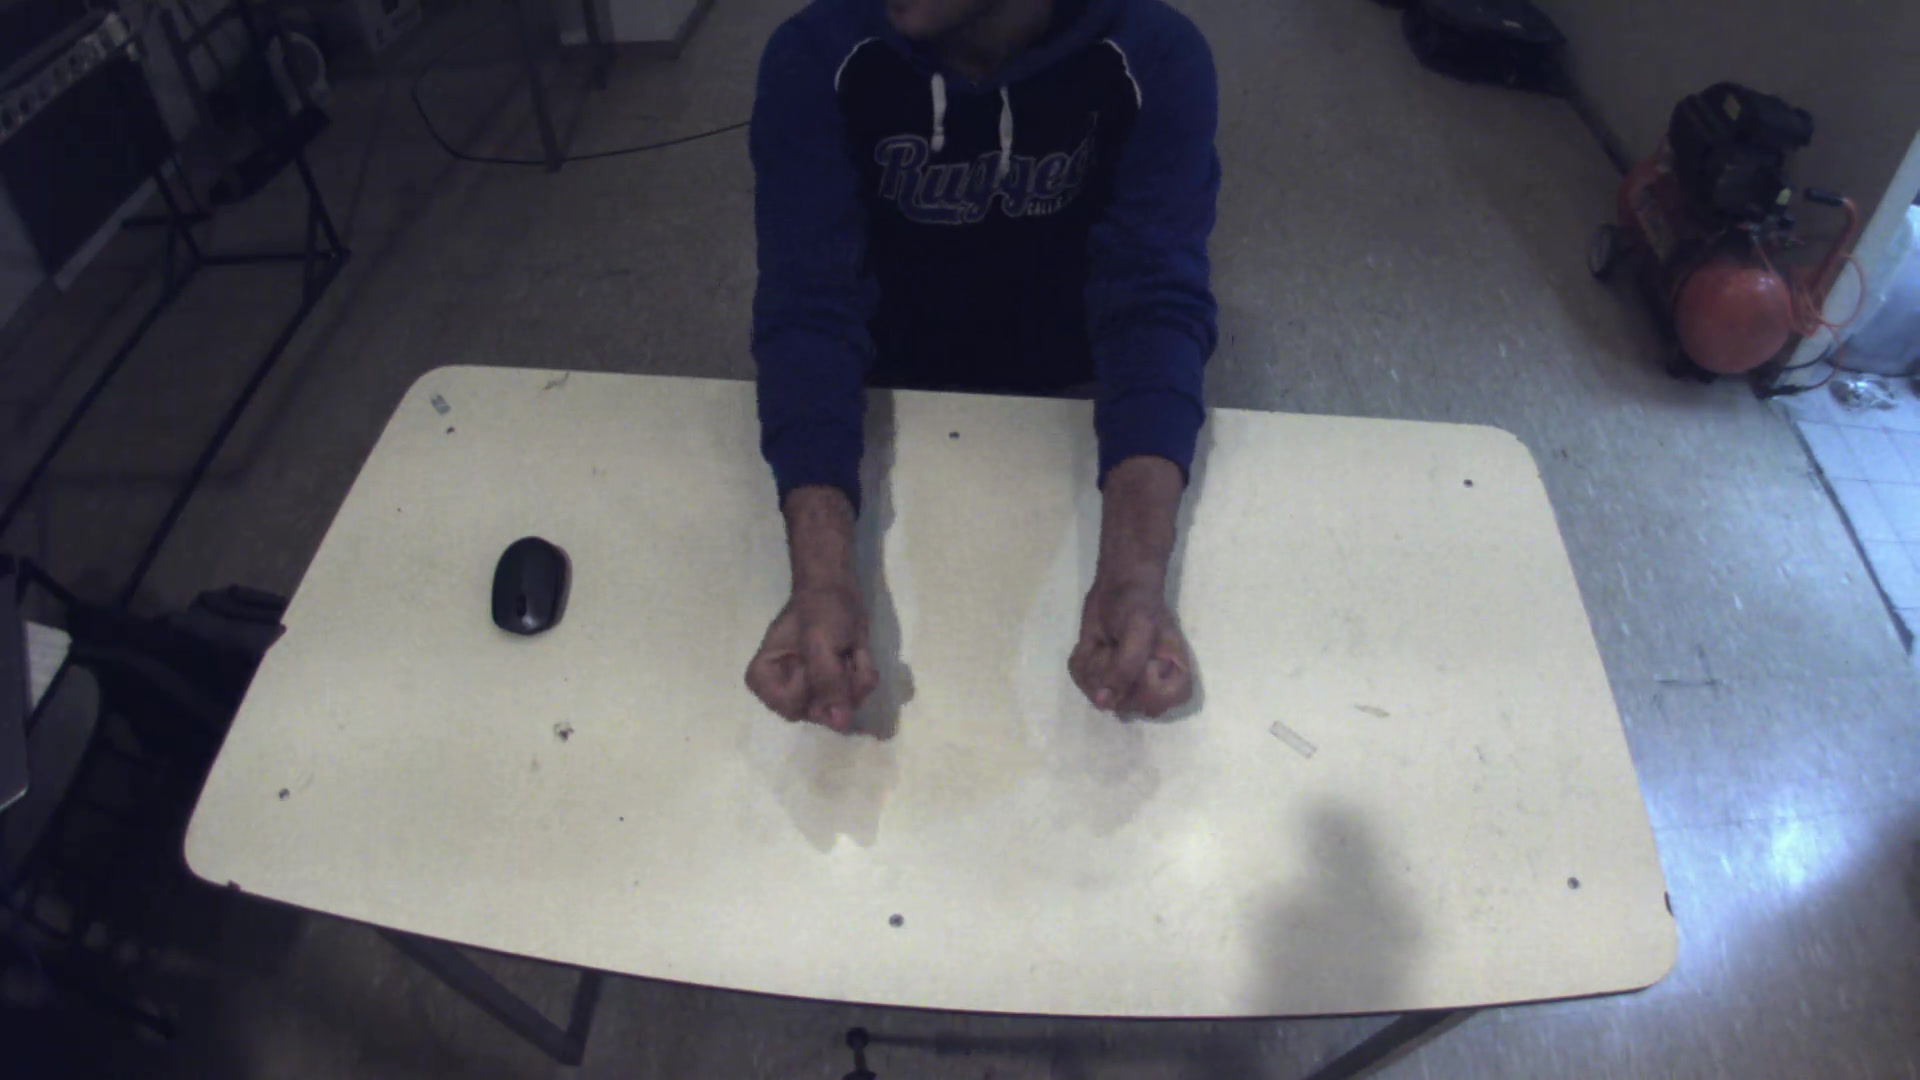hand: (1064, 556, 1213, 719), (731, 584, 890, 735)
